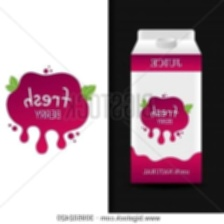carton: (124, 25, 205, 187)
